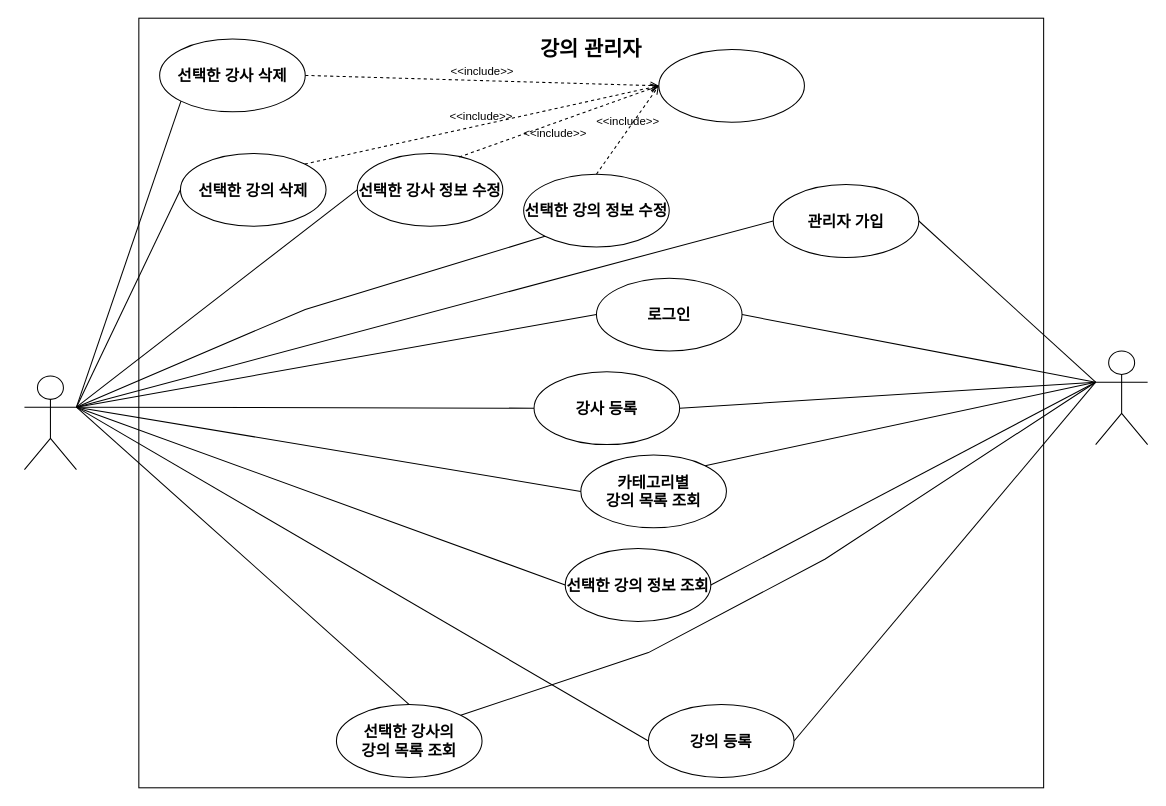
Image size: 1166x806. Some labels were removed from this diagram. Here are the shapes that lost their labels. From the top down, the centre of each, then its label:
point (731, 85): MANAGER 권한 확인
point (1121, 397): STAFF
point (49, 422): MANAGER
